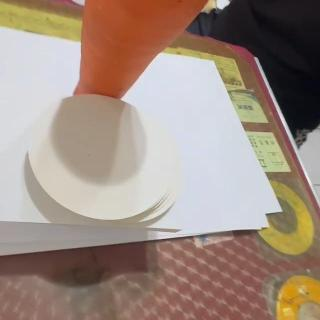carrot: (72, 0, 220, 98)
